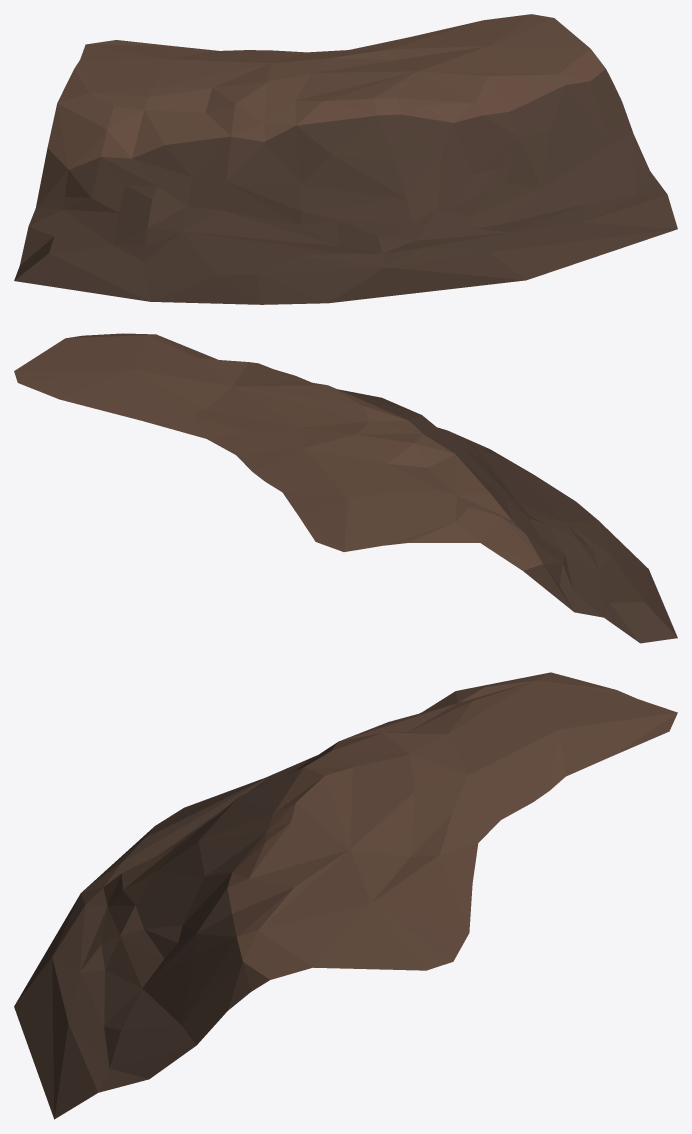
File: synty-terrain-riverside-corner-02.gltf
The picture shows the model from 3 angles, top to bottom: view 1: azimuth 30°, elevation 25°; view 2: azimuth 150°, elevation 25°; view 3: azimuth 270°, elevation 25°; orthographic projection. The views are drawn at different scales.
Visible parts, largest first — view 1: SM_Terrain_RiverSide_Corner_02; view 2: SM_Terrain_RiverSide_Corner_02; view 3: SM_Terrain_RiverSide_Corner_02.
Boxes of the visible parts, x1=… form: SM_Terrain_RiverSide_Corner_02: x1=14, y1=14, x2=677, y2=304; SM_Terrain_RiverSide_Corner_02: x1=14, y1=333, x2=677, y2=643; SM_Terrain_RiverSide_Corner_02: x1=14, y1=672, x2=677, y2=1119.
Size of the model in its own units: 9.18 by 1.93 by 6.74.
1 material, 1 textured.
